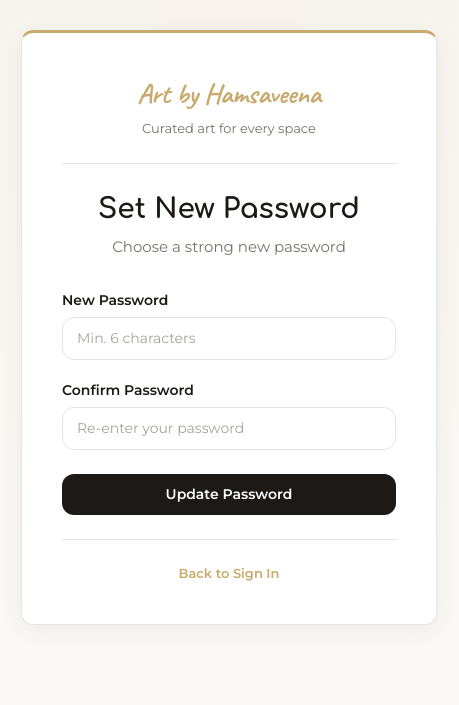
Test: ResetPasswordForm › shows auth error on Supabase failure
This screenshot has width=459, height=705.
In the password field labelled "New Password": (229, 338) [62, 317, 396, 360], type "newpass123"
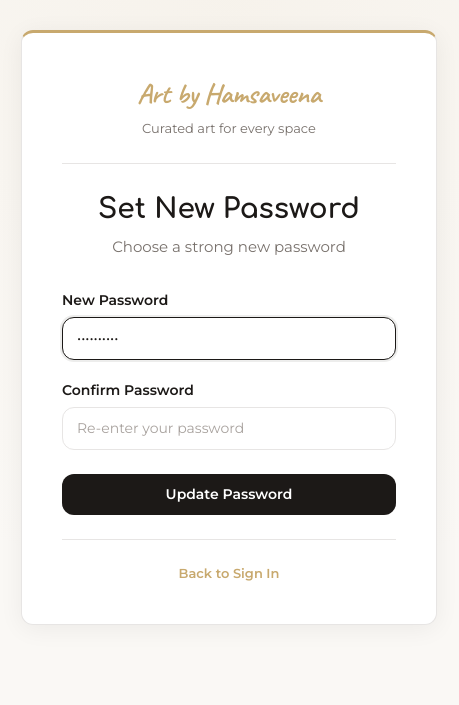
In the password field labelled "Confirm Password": (229, 428) [62, 407, 396, 450], type "newpass123"
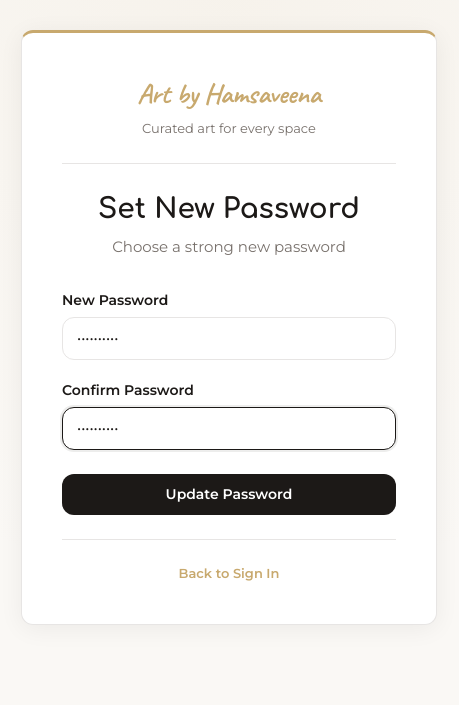
Click the button "Update Password": (229, 494) [62, 474, 396, 515]
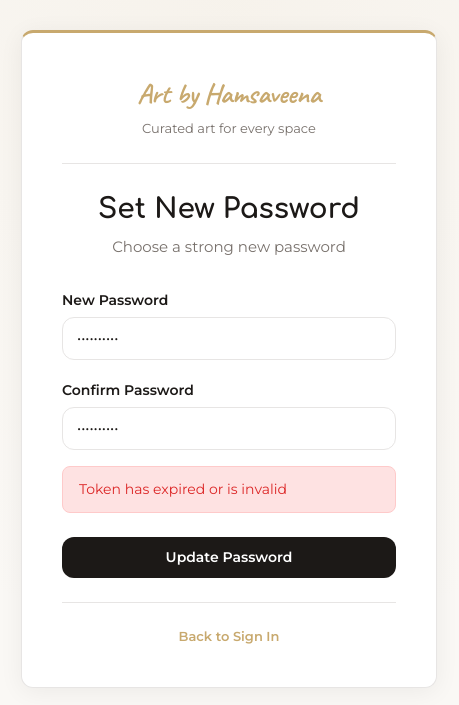
Expected: the text "Token has expired or is invalid" is shown, [62, 466, 396, 513]
